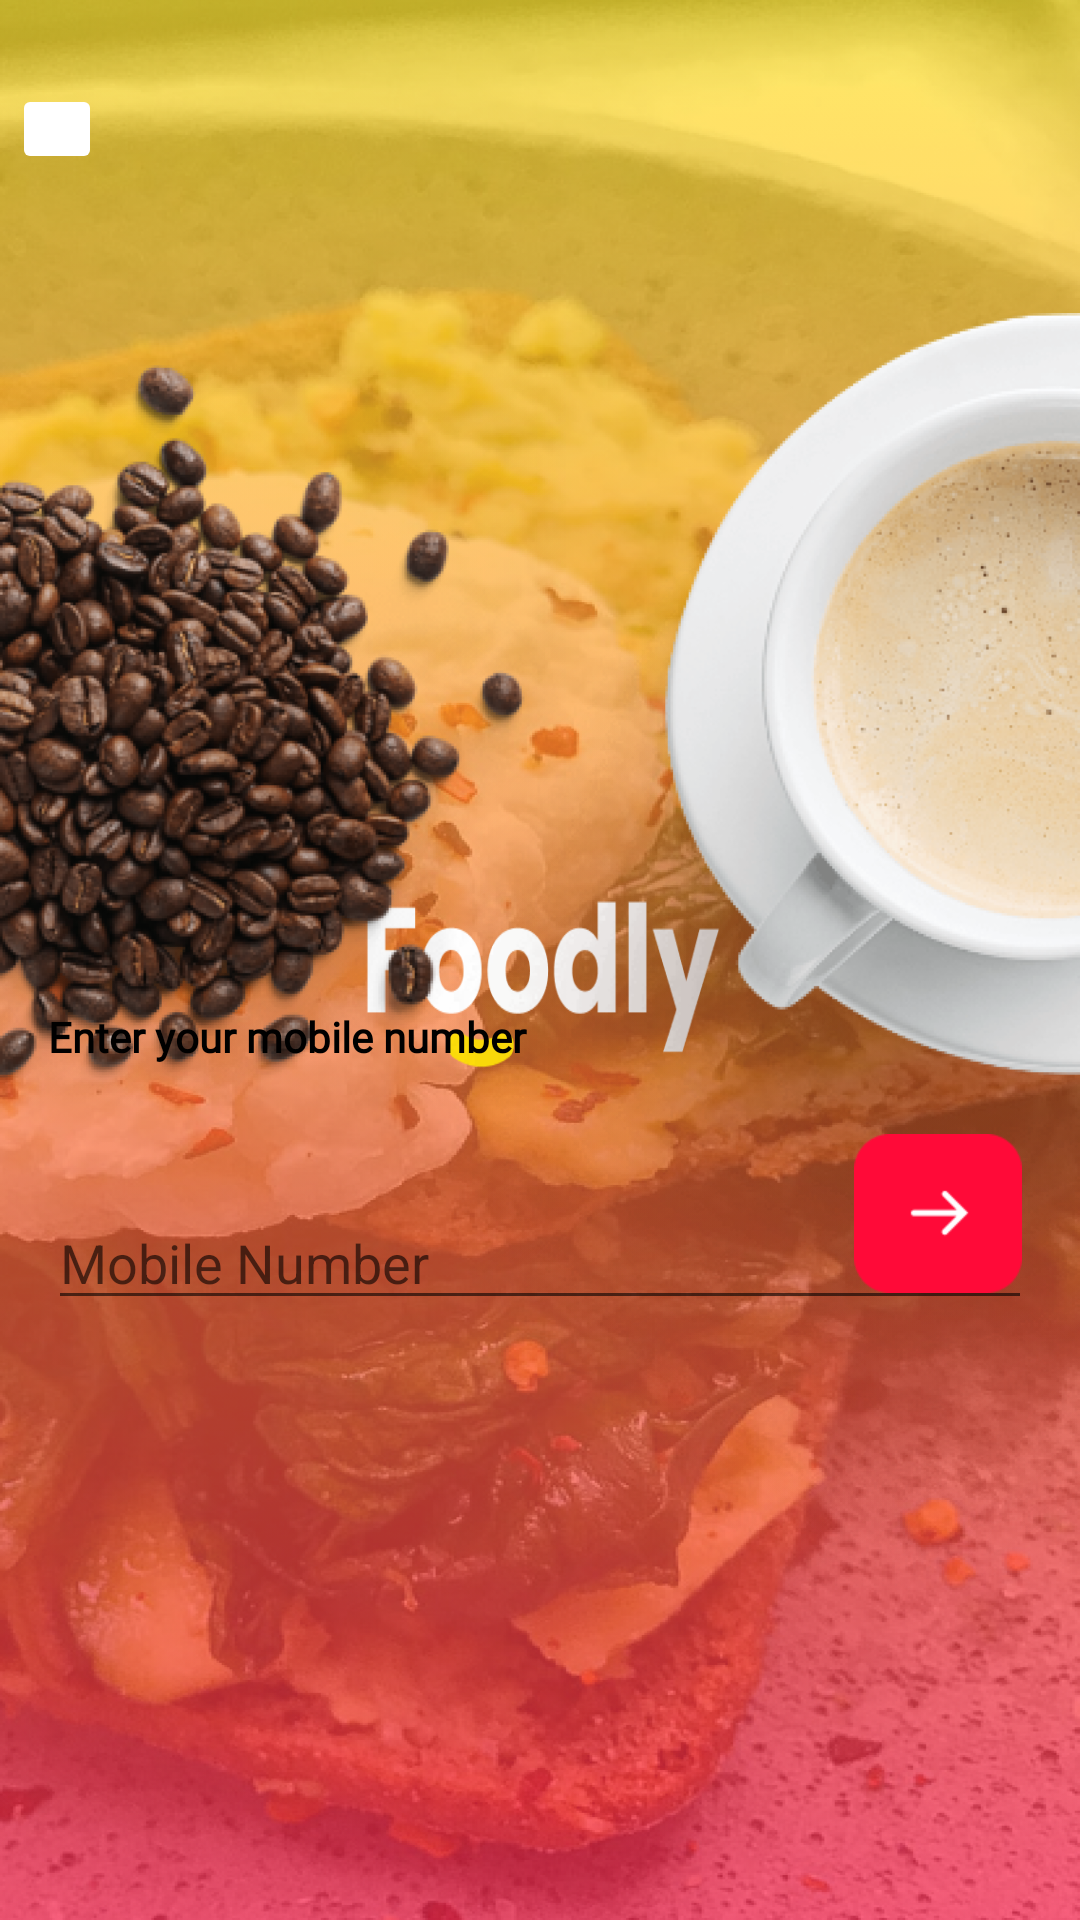

Icon bounding boxes for this 1080w x 1920h phone screenshot, format (x1, y1, x2, y2):
custom next: (854, 1134, 1031, 1293)
